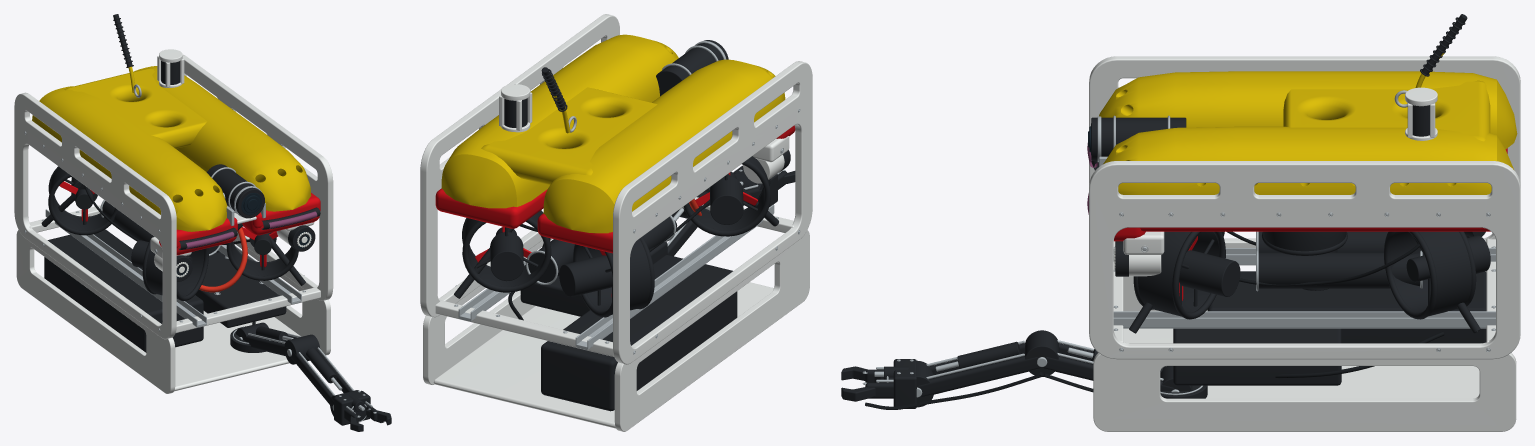
Rendered from falcon.glb.
3 views of the same model, side by side, from view 1: azimuth 30°, elevation 25°; view 2: azimuth 150°, elevation 25°; view 3: azimuth 270°, elevation 25° (orthographic). The views are drawn at different scales.
Parts seen in each view (by area): view 1: PP side frame.001, Sculpted buoyancy shoulder.001, Sculpted buoyancy shoulder, Manipulator skid side.001, Skid hydraulic power unit, PP side frame, Buoyancy rear bridge, Manipulator skid bottom, Skid manifold enclosure, Manipulator skid side, PP cross frame.001, Black forward camera pressure tube (+21 smaller); view 2: PP side frame.001, Sculpted buoyancy shoulder.001, Sculpted buoyancy shoulder, Skid hydraulic power unit, Manipulator skid side.001, Manipulator skid bottom, Buoyancy rear bridge, PP side frame, Manipulator skid side, PP cross frame, Red longitudinal deck, T4 open duct (+23 smaller); view 3: PP side frame, Manipulator skid side, Sculpted buoyancy shoulder, Sculpted buoyancy shoulder.001, PP side frame.001, Buoyancy rear bridge, Skid hydraulic power unit, Manipulator skid bottom, Skid manifold enclosure, Lower pressure housing, T3 open duct, Lower channel flange (+18 smaller).
Boxes of the visible parts, <box> form: PP side frame.001: <box>14,92,176,339</box>; Sculpted buoyancy shoulder.001: <box>32,86,227,231</box>; Sculpted buoyancy shoulder: <box>134,66,311,211</box>; Manipulator skid side.001: <box>16,230,175,393</box>; Skid hydraulic power unit: <box>44,229,203,352</box>; PP side frame: <box>182,54,333,300</box>; Buoyancy rear bridge: <box>64,68,207,148</box>; Manipulator skid bottom: <box>174,311,300,391</box>; Skid manifold enclosure: <box>195,252,286,327</box>; Manipulator skid side: <box>210,239,330,355</box>; PP cross frame.001: <box>176,287,320,332</box>; Black forward camera pressure tube: <box>207,164,264,218</box>; PP side frame.001: <box>613,61,812,364</box>; Sculpted buoyancy shoulder.001: <box>543,59,785,233</box>; Sculpted buoyancy shoulder: <box>441,34,678,208</box>; Skid hydraulic power unit: <box>541,255,737,411</box>; Manipulator skid side.001: <box>614,230,809,431</box>; Manipulator skid bottom: <box>433,282,773,428</box>; Buoyancy rear bridge: <box>481,87,657,185</box>; PP side frame: <box>420,14,619,317</box>; Manipulator skid side: <box>423,238,552,384</box>; PP cross frame: <box>435,300,614,356</box>; Red longitudinal deck: <box>435,188,547,228</box>; T4 open duct: <box>579,239,650,314</box>; PP side frame: <box>1089,161,1520,359</box>; Manipulator skid side: <box>1093,353,1516,431</box>; Sculpted buoyancy shoulder: <box>1103,126,1513,194</box>; Sculpted buoyancy shoulder.001: <box>1099,71,1517,149</box>; PP side frame.001: <box>1089,56,1520,247</box>; Buoyancy rear bridge: <box>1283,80,1490,141</box>; Skid hydraulic power unit: <box>1207,271,1486,343</box>; Manipulator skid bottom: <box>1123,328,1479,398</box>; Skid manifold enclosure: <box>1173,328,1341,385</box>; Lower pressure housing: <box>1258,252,1419,288</box>; T3 open duct: <box>1390,231,1471,316</box>; Lower channel flange: <box>1113,317,1495,327</box>.
Bounding box in the file's own units: 0.602 × 0.9339 × 1.57.
